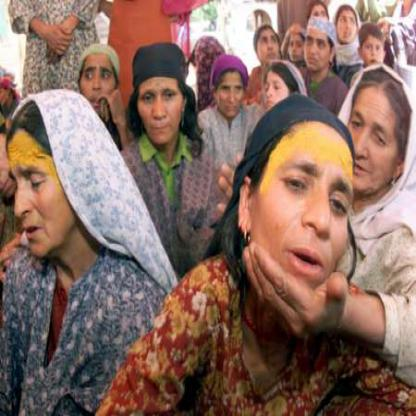face: (253, 108, 355, 313), (1, 101, 82, 260), (345, 75, 409, 197), (139, 50, 186, 145), (80, 44, 120, 119), (262, 65, 293, 120), (217, 62, 246, 118), (302, 20, 332, 72), (256, 26, 281, 69), (362, 29, 386, 71), (338, 8, 359, 45), (288, 27, 308, 65), (310, 4, 329, 35)
